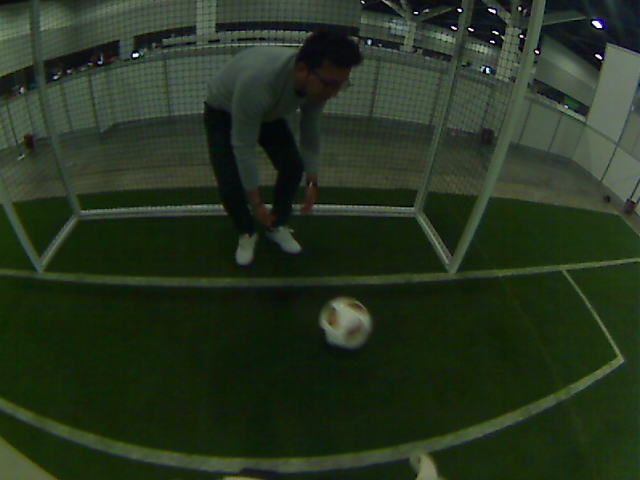ball: (324, 301, 366, 340)
goalpost: (435, 214, 475, 274), (22, 212, 62, 272)
